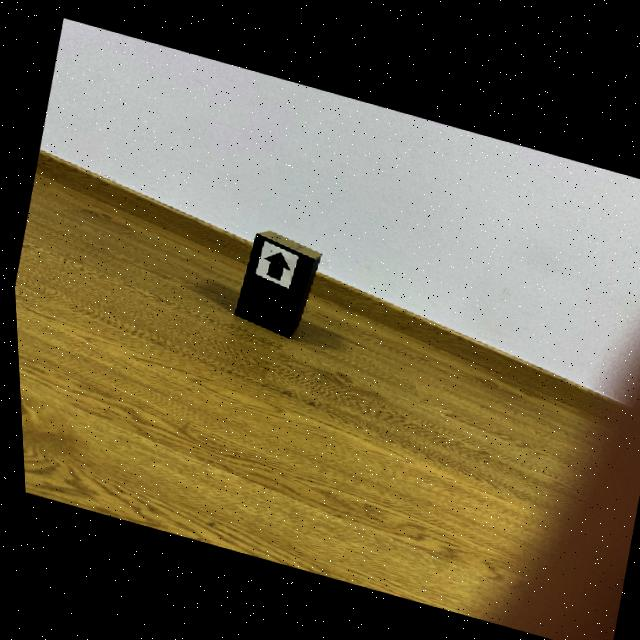UP: (262, 250, 286, 277)
